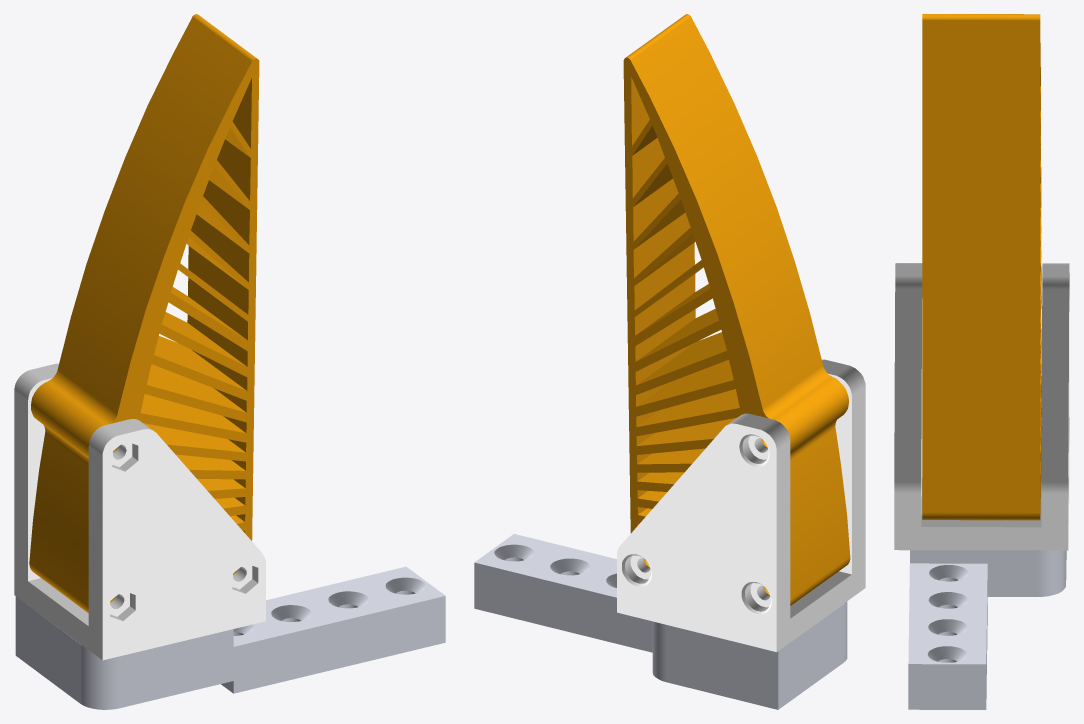
File: left_finger.dae
The picture shows the model from 3 angles, left to right: view 1: azimuth 30°, elevation 25°; view 2: azimuth 150°, elevation 25°; view 3: azimuth 270°, elevation 25°; orthographic projection. The views are drawn at different scales.
Visible parts, largest first — view 1: ??1, 1_?1, ___3?_?____Y__a2?3_?_?Y__?D1; view 2: ??1, 1_?1, ___3?_?____Y__a2?3_?_?Y__?D1; view 3: ??1, 1_?1, ___3?_?____Y__a2?3_?_?Y__?D1.
Part boxes in pixels (x1,y1,x2,y2): ??1: (29,14,259,612); 1_?1: (14,363,265,660); ___3?_?____Y__a2?3_?_?Y__?D1: (15,566,445,709); ??1: (623,14,850,605); 1_?1: (617,359,865,652); ___3?_?____Y__a2?3_?_?Y__?D1: (474,534,847,709); ??1: (922,14,1041,520); 1_?1: (894,263,1069,550); ___3?_?____Y__a2?3_?_?Y__?D1: (908,550,1066,709).
Bounding box in the file's own units: 0.0861 × 0.0383 × 0.1465.
